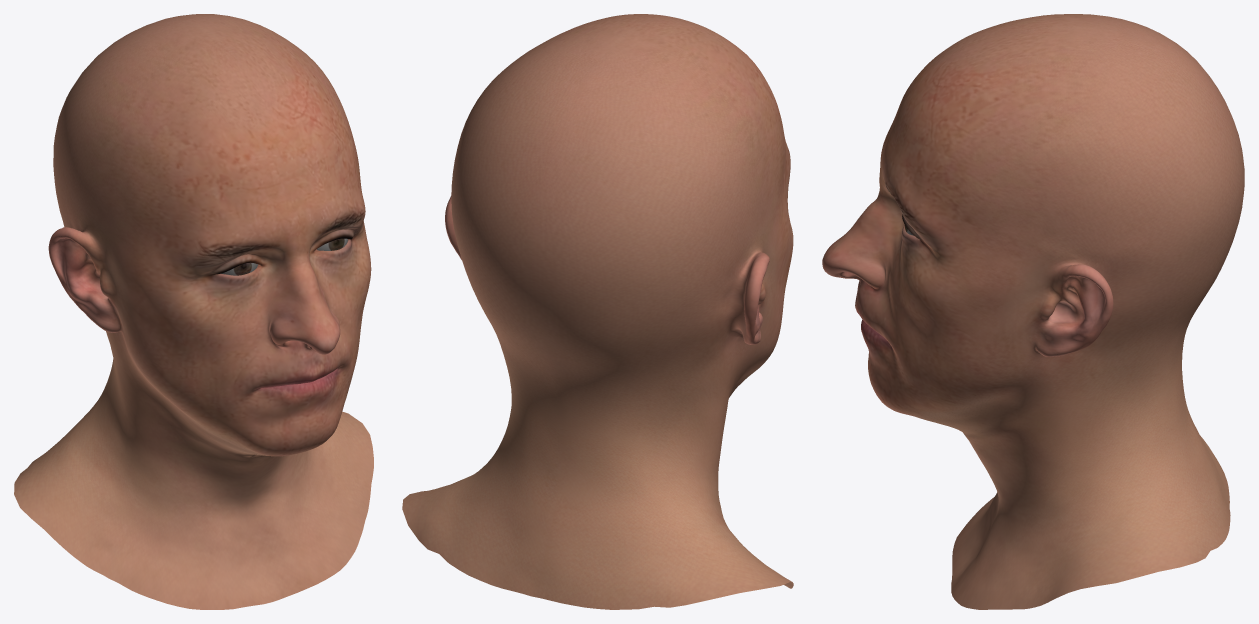
The picture shows the model from 3 angles, left to right: view 1: azimuth 30°, elevation 25°; view 2: azimuth 150°, elevation 25°; view 3: azimuth 270°, elevation 25°; orthographic projection. The views are drawn at different scales.
Parts seen in each view (by area): view 1: Registered head; view 2: Registered head; view 3: Registered head.
Boxes of the visible parts, x1,y1,x2,y2 form: Registered head: (14, 14, 373, 609); Registered head: (402, 14, 793, 609); Registered head: (822, 14, 1244, 609).
Bounding box in the file's own units: 1.28 × 1.89 × 1.31.
Materials: 3 (3 with a texture image).
